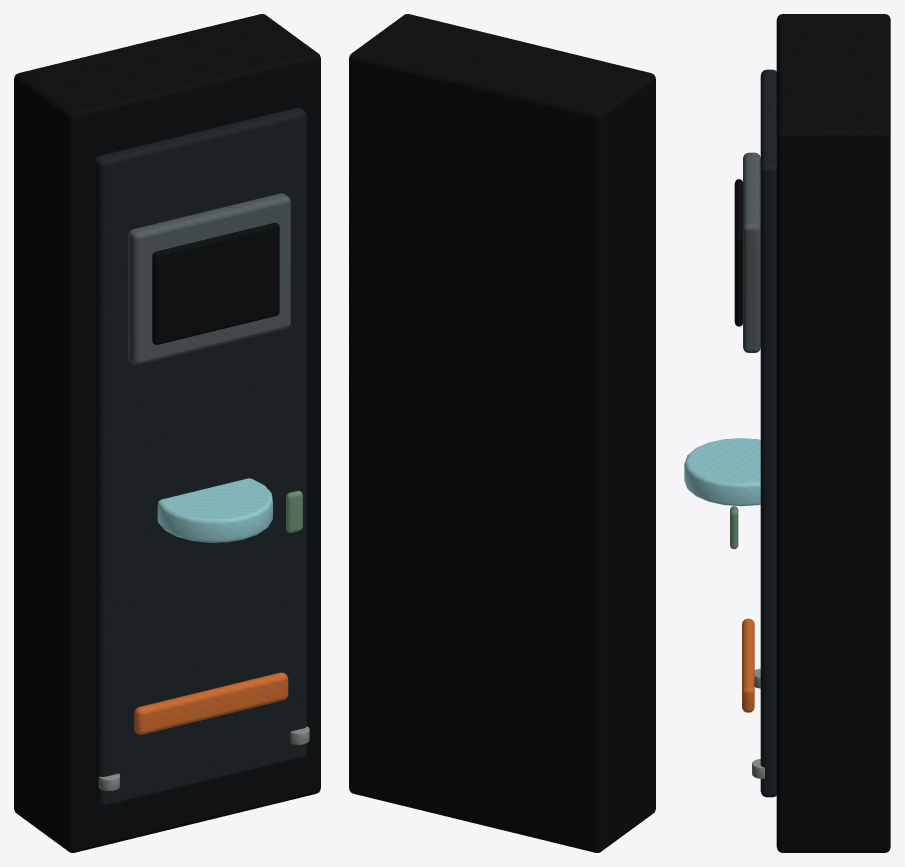
Rendered from BiometricScanner.glb.
3 views of the same model, side by side, from view 1: azimuth 30°, elevation 25°; view 2: azimuth 150°, elevation 25°; view 3: azimuth 270°, elevation 25° (orthographic). The views are drawn at different scales.
Parts seen in each view (by area): view 1: BiometricScanner_Mesh; view 2: BiometricScanner_Mesh; view 3: BiometricScanner_Mesh.
Boxes of the visible parts, left/top/right/bottom form: BiometricScanner_Mesh: left=14, top=14, right=320, bottom=852; BiometricScanner_Mesh: left=349, top=14, right=655, bottom=852; BiometricScanner_Mesh: left=684, top=14, right=890, bottom=852.
Size of the model in its own units: 0.4 by 1.12 by 0.29.
7 materials, 7 textured.
